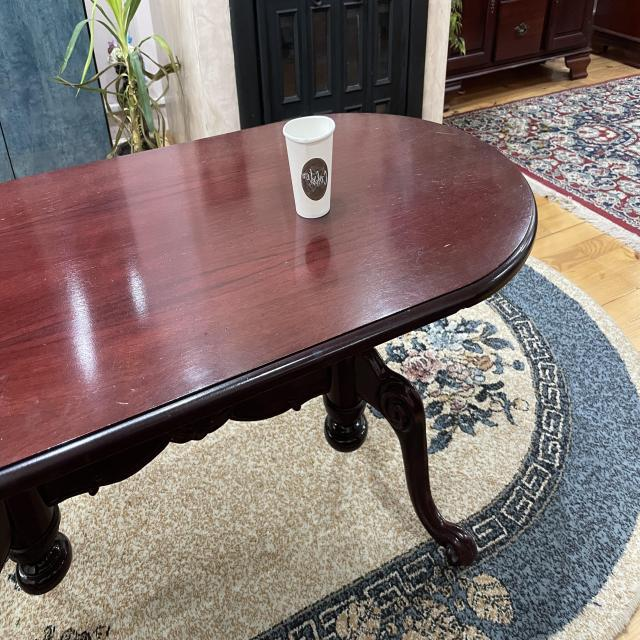medium: (277, 109, 343, 228)
